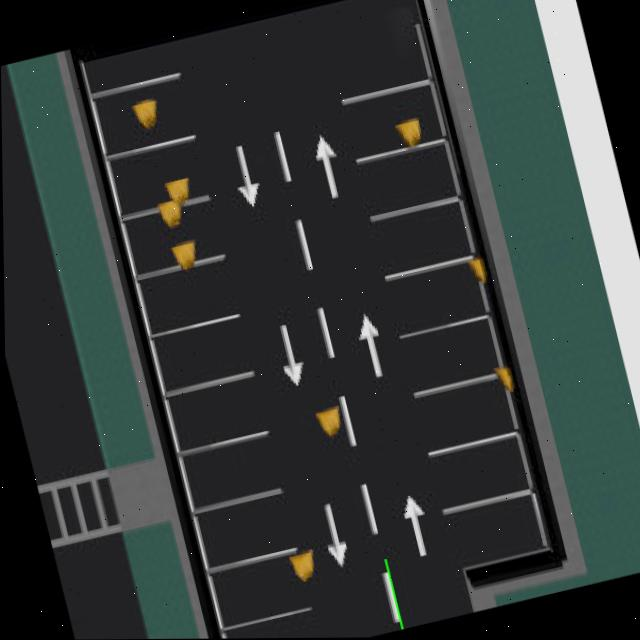Garbage: (151, 192, 190, 235), (281, 546, 319, 588), (389, 114, 428, 154), (166, 236, 203, 278), (160, 172, 195, 212), (129, 95, 163, 133), (311, 405, 344, 442), (489, 358, 516, 400), (463, 252, 488, 285)
